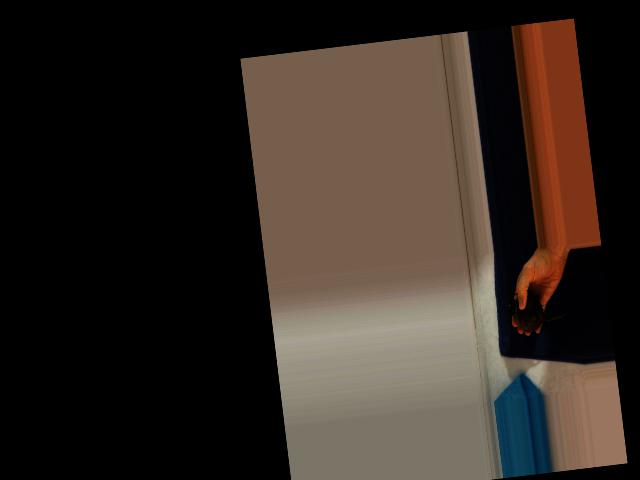beet: (506, 287, 568, 334)
